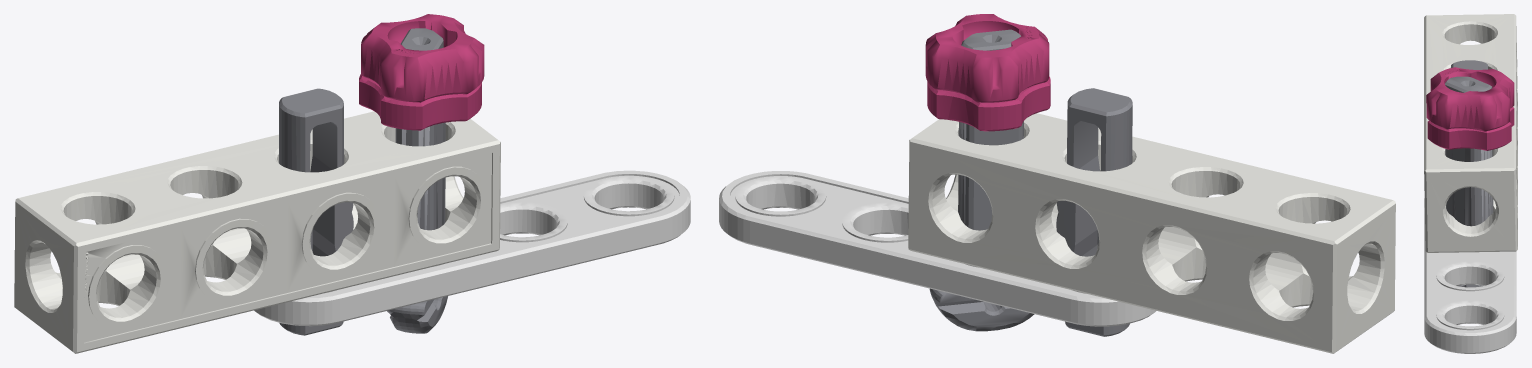
The model's file is state7.fbx.
The picture shows the model from 3 angles, left to right: view 1: azimuth 30°, elevation 25°; view 2: azimuth 150°, elevation 25°; view 3: azimuth 270°, elevation 25°; orthographic projection. The views are drawn at different scales.
Parts seen in each view (by area): view 1: Pin SPP INR LCT BDR BU01.00x00.50 - SPN-PIN-0094 (stemfie.or; view 2: Pin SPP INR LCT BDR BU01.00x00.50 - SPN-PIN-0094 (stemfie.or; view 3: Pin SPP INR LCT BDR BU01.00x00.50 - SPN-PIN-0094 (stemfie.or.
Part boxes in pixels (box(x1,y1,x2,y2)): Pin SPP INR LCT BDR BU01.00x00.50 - SPN-PIN-0094 (stemfie.or: box(14, 14, 690, 353); Pin SPP INR LCT BDR BU01.00x00.50 - SPN-PIN-0094 (stemfie.or: box(719, 14, 1395, 353); Pin SPP INR LCT BDR BU01.00x00.50 - SPN-PIN-0094 (stemfie.or: box(1424, 14, 1517, 353).
Size of the model in its own units: 7469 by 3225 by 1271.
